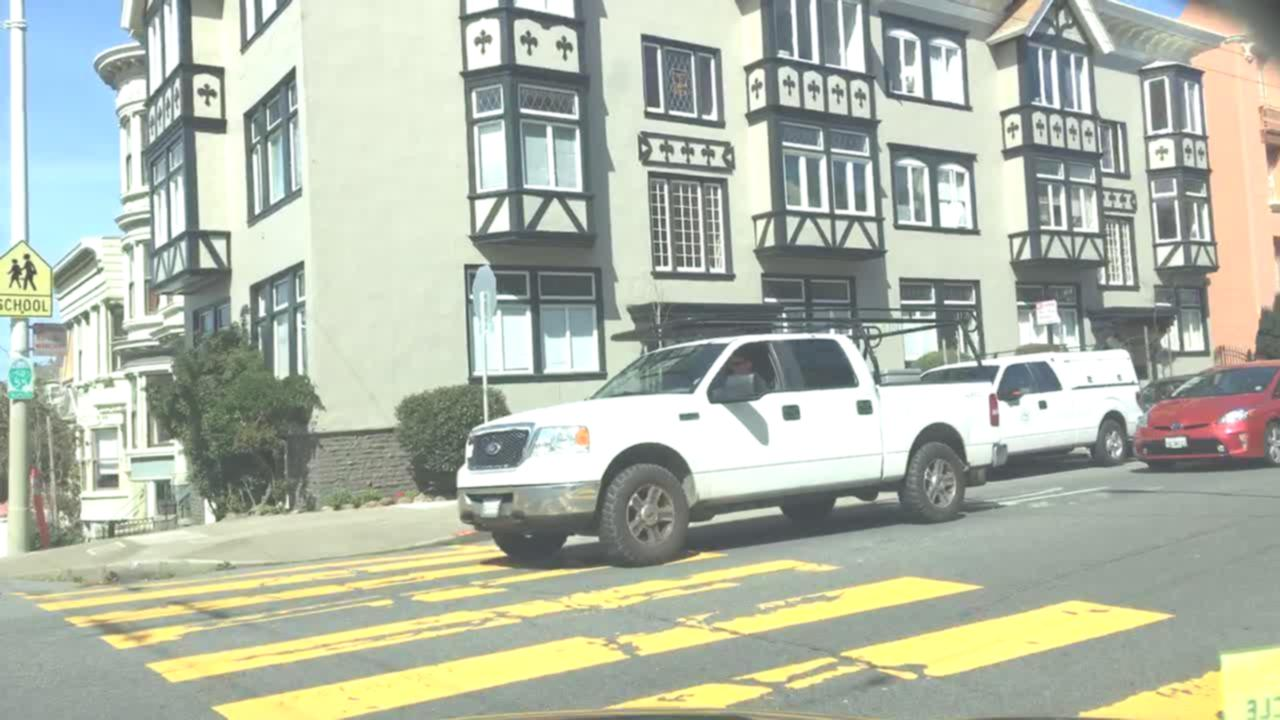ford: (481, 441, 507, 457)
